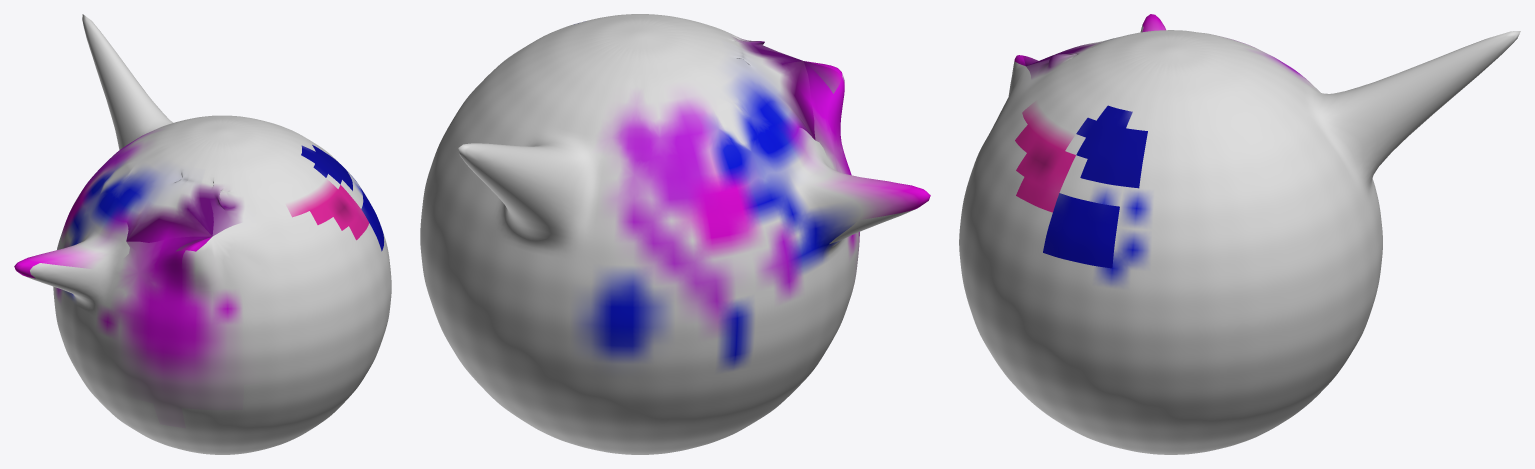
3 views of the same model, side by side, from view 1: azimuth 30°, elevation 25°; view 2: azimuth 150°, elevation 25°; view 3: azimuth 270°, elevation 25° (orthographic). The views are drawn at different scales.
Parts seen in each view (by area): view 1: Sphere; view 2: Sphere; view 3: Sphere.
Part boxes in pixels (x1,y1,x2,y2): Sphere: [14, 14, 391, 454]; Sphere: [420, 14, 930, 454]; Sphere: [959, 14, 1520, 454].
Size of the model in its own units: 761 by 649 by 817.
